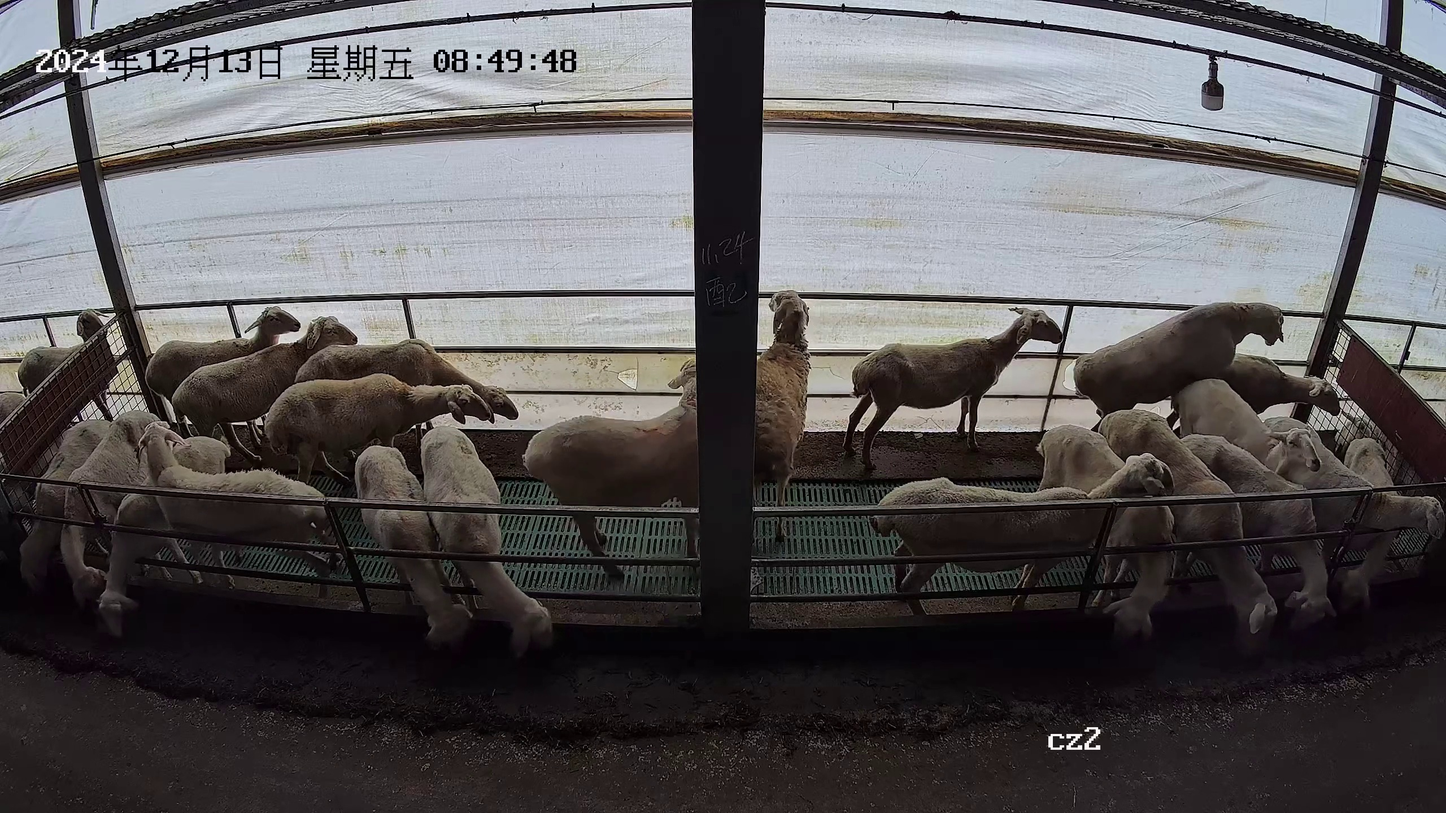Smounting: (1071, 299, 1345, 442)
mounted: (1165, 351, 1342, 438)
